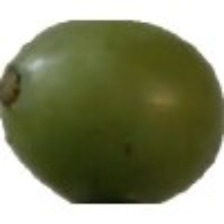grapes: (12, 21, 211, 189)
